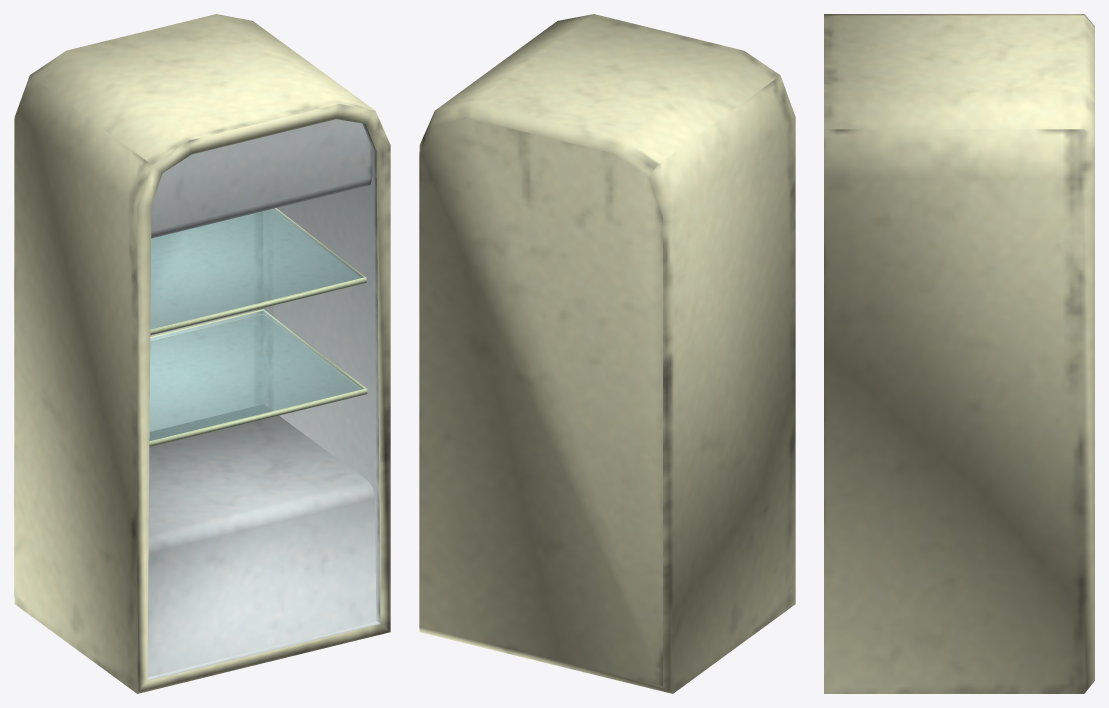
File: fridge_close.obj
3 renders of one model, left to right at view 1: azimuth 30°, elevation 25°; view 2: azimuth 150°, elevation 25°; view 3: azimuth 270°, elevation 25°, orthographic. The views are drawn at different scales.
Visible parts, largest first — view 1: fridge_close; view 2: fridge_close; view 3: fridge_close.
Part boxes in pixels (bbox=[...]): fridge_close: bbox=[14, 14, 390, 693]; fridge_close: bbox=[419, 14, 795, 693]; fridge_close: bbox=[824, 14, 1094, 693].
Bounding box in the file's own units: 0.9146 × 1.87 × 0.7992.
